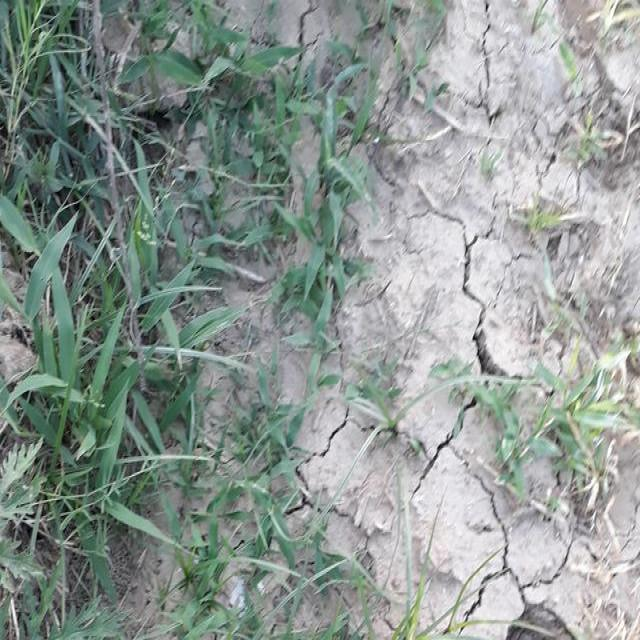weed: (0, 11, 372, 640)
